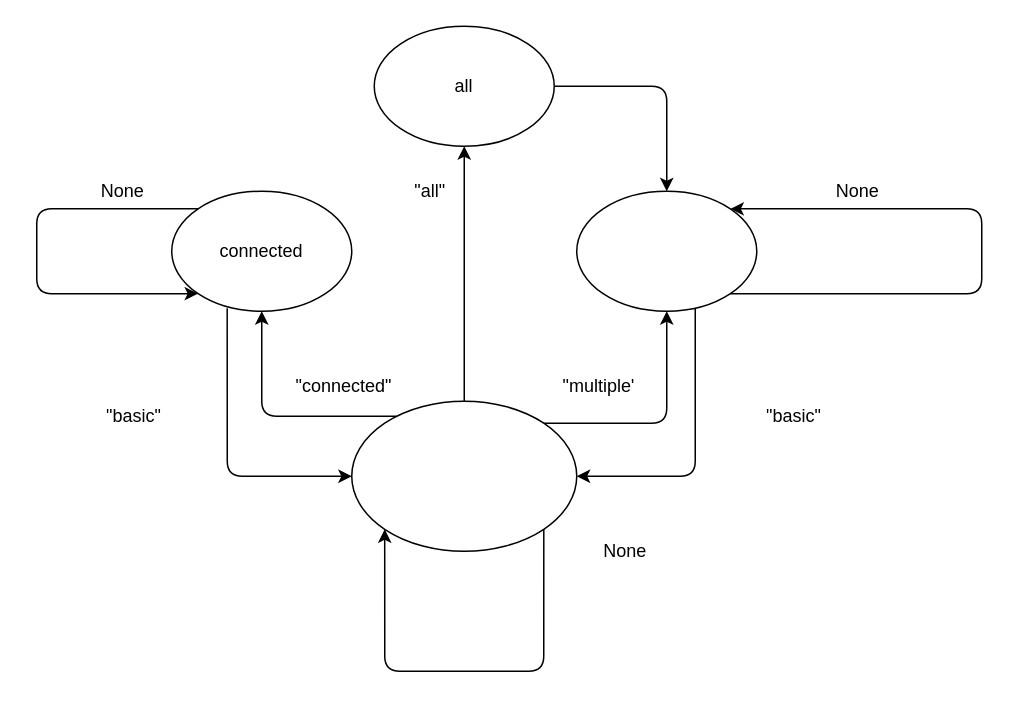
The diagram is 1020 pixels wide and 710 high, and some of its shapes have lost their labels. Here are the shapes that lost their labels. From the top down, the box of each, then its label:
(575, 190, 757, 311): multiple
(350, 400, 577, 551): Main CLI Loop
